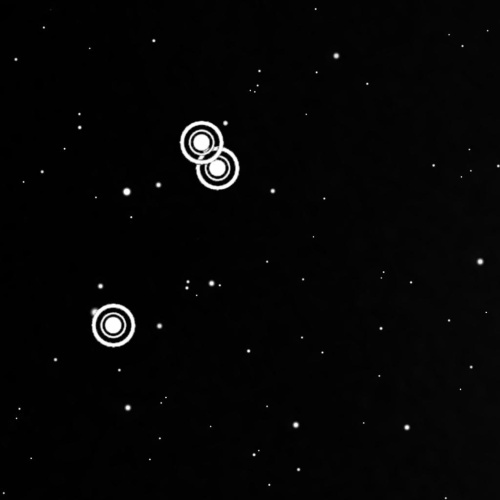canis_minor: (81, 114, 248, 358)
